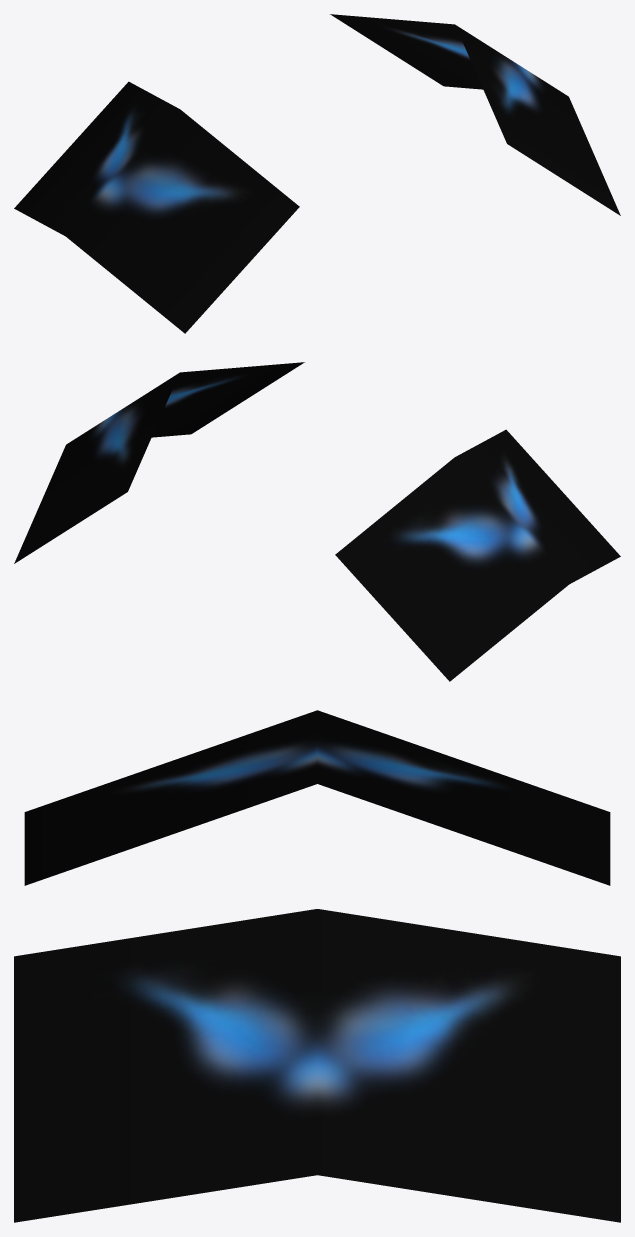
File: taluosheffect.FBX
3 renders of one model, top to bottom at view 1: azimuth 30°, elevation 25°; view 2: azimuth 150°, elevation 25°; view 3: azimuth 270°, elevation 25°, orthographic. The views are drawn at different scales.
Visible parts, largest first — view 1: 2_1, 2_2; view 2: 2_1, 2_2; view 3: 2_2, 2_1.
Boxes of the visible parts, x1,y1,x2,y2 form: 2_1: (14,81,299,333); 2_2: (330,14,620,215); 2_1: (335,429,620,681); 2_2: (14,362,304,563); 2_2: (14,909,620,1222); 2_1: (24,710,610,885).
Size of the model in its own units: 1.86 by 0.5656 by 1.14.
Materials: 1 (1 with a texture image).
